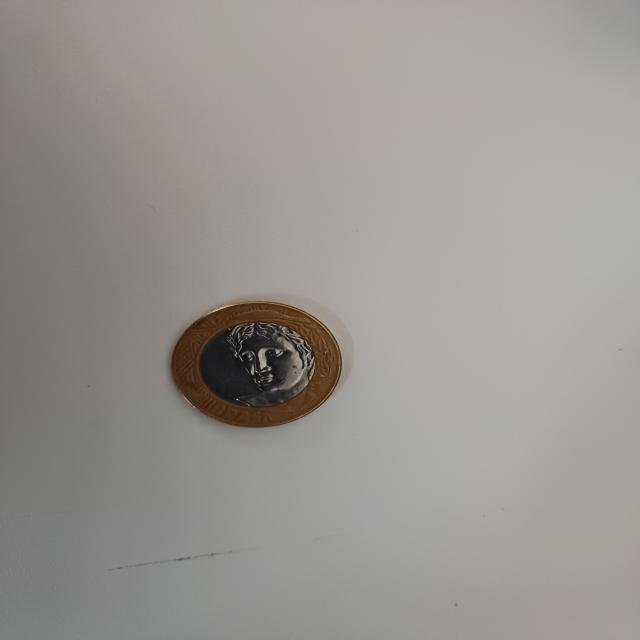1 real: (172, 298, 348, 432)
